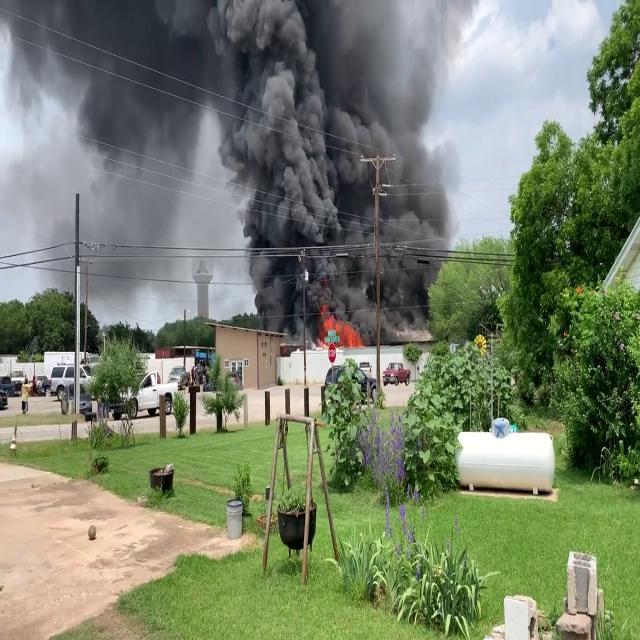Smoke: (8, 0, 474, 328)
